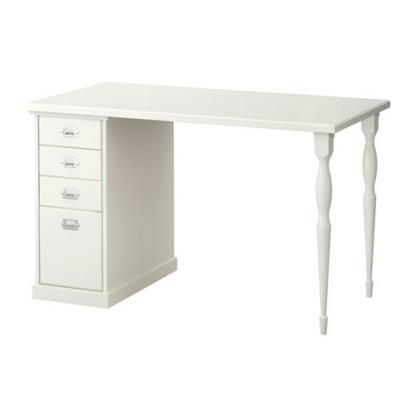Table: (23, 74, 391, 341)
